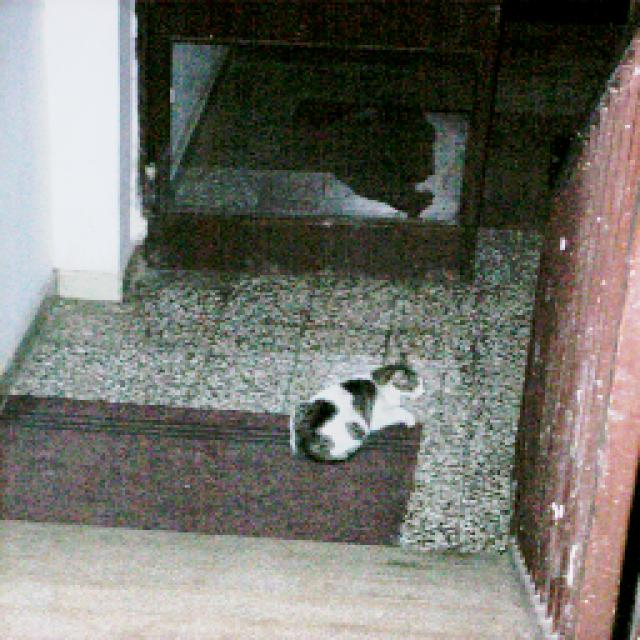cat: (274, 354, 431, 477)
